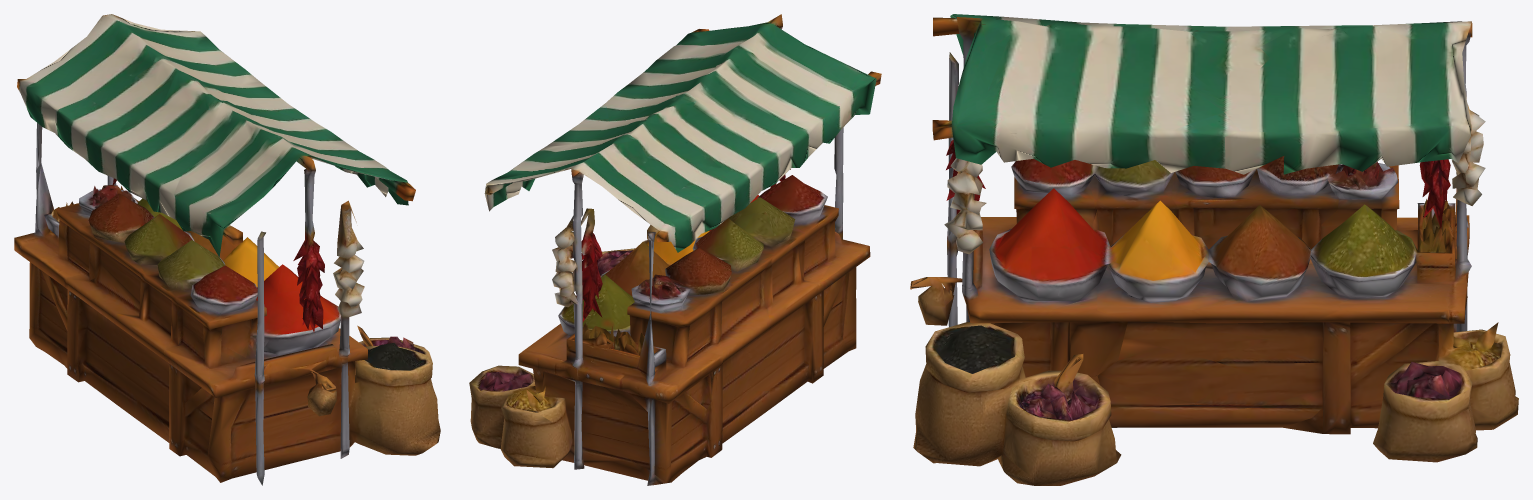
The model's file is st_spice.glb.
3 views of the same model, side by side, from view 1: azimuth 30°, elevation 25°; view 2: azimuth 150°, elevation 25°; view 3: azimuth 270°, elevation 25° (orthographic). The views are drawn at different scales.
Parts seen in each view (by area): view 1: tripo_node_e08e15a2-9f9f-4270-84a5-4e92c159faf8; view 2: tripo_node_e08e15a2-9f9f-4270-84a5-4e92c159faf8; view 3: tripo_node_e08e15a2-9f9f-4270-84a5-4e92c159faf8.
Boxes of the visible parts, x1=… form: tripo_node_e08e15a2-9f9f-4270-84a5-4e92c159faf8: x1=14, y1=14, x2=440, y2=485; tripo_node_e08e15a2-9f9f-4270-84a5-4e92c159faf8: x1=469, y1=14, x2=881, y2=485; tripo_node_e08e15a2-9f9f-4270-84a5-4e92c159faf8: x1=910, y1=14, x2=1518, y2=485.
Size of the model in its own units: 0.5848 by 0.6966 by 1.
Materials: 1 (1 with a texture image).
